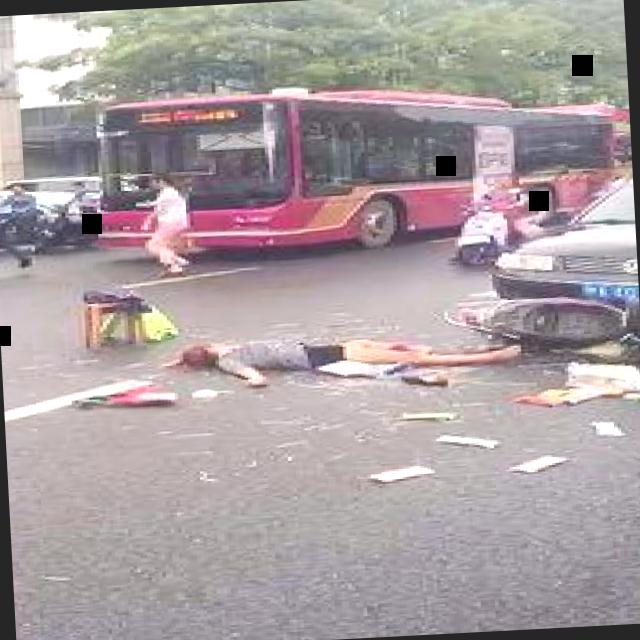Fall-Detected: (135, 303, 554, 402)
